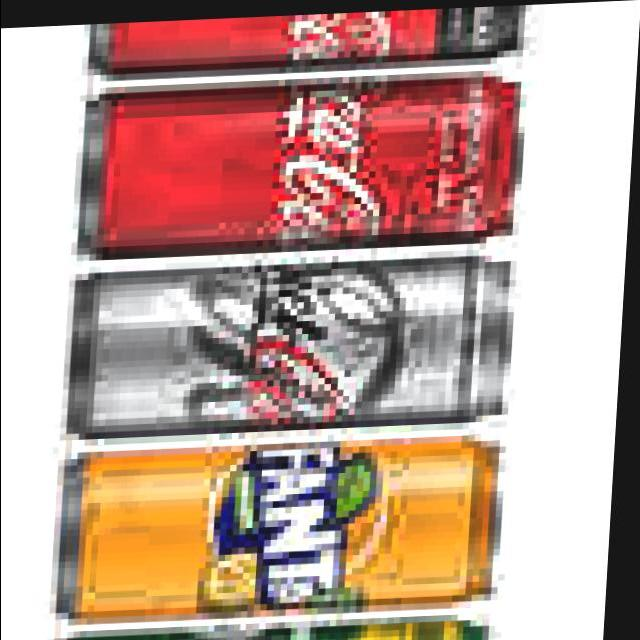Aluminum Can: (60, 245, 529, 446), (54, 428, 518, 628), (72, 64, 536, 264), (84, 4, 531, 82), (53, 610, 507, 640)
